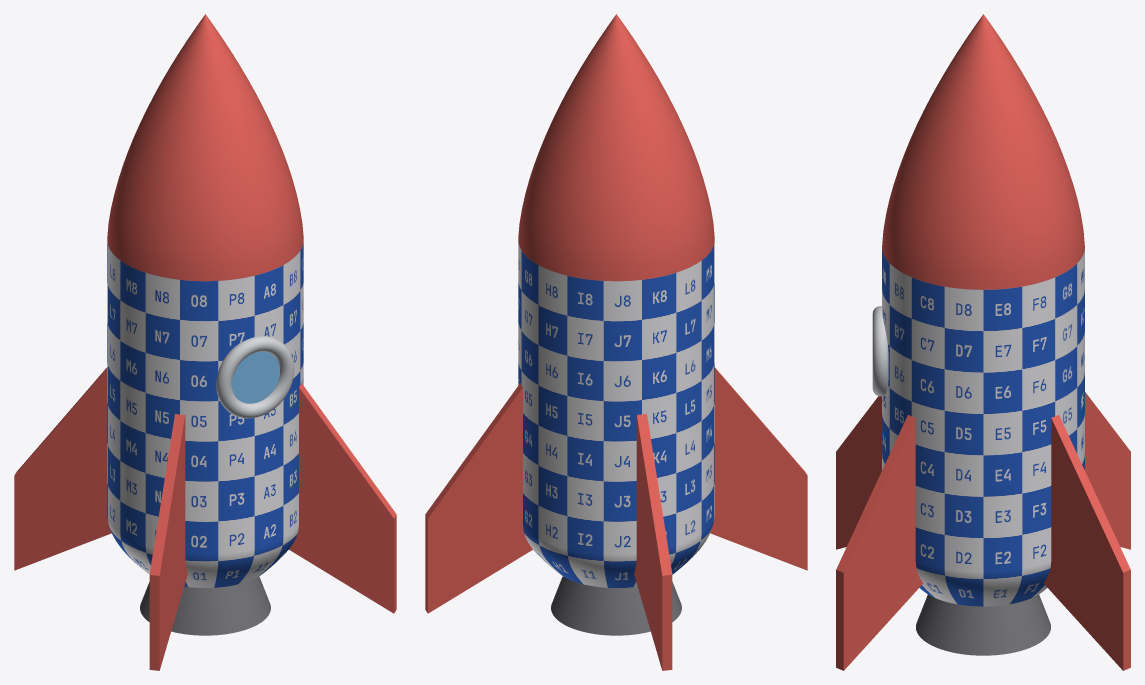
The model's file is sample.glb.
3 renders of one model, left to right at view 1: azimuth 30°, elevation 25°; view 2: azimuth 150°, elevation 25°; view 3: azimuth 270°, elevation 25°, orthographic. The views are drawn at different scales.
Parts seen in each view (by area): view 1: Body, Nose, Fins, Nozzle, WindowFrame, Window; view 2: Body, Nose, Fins, Nozzle; view 3: Body, Nose, Fins, Nozzle, WindowFrame.
Boxes of the visible parts, x1,y1,x2,y2 form: Body: (107, 242, 303, 587); Nose: (107, 14, 303, 281); Fins: (14, 367, 396, 670); Nozzle: (140, 576, 270, 635); WindowFrame: (216, 336, 294, 418); Window: (232, 351, 279, 403); Body: (518, 242, 714, 587); Nose: (518, 14, 714, 281); Fins: (425, 367, 807, 670); Nozzle: (551, 576, 681, 635); Body: (882, 248, 1084, 606); Nose: (882, 14, 1084, 289); Fins: (836, 392, 1130, 670); Nozzle: (916, 594, 1050, 655); WindowFrame: (872, 306, 888, 396).
Size of the model in its own units: 0.4356 by 1 by 0.4356.
5 materials, 1 textured.
